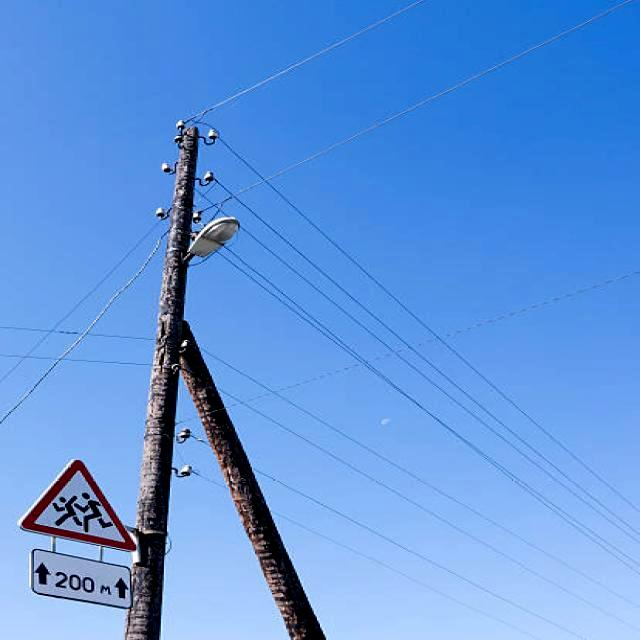Broken Pole: (169, 322, 348, 640)
